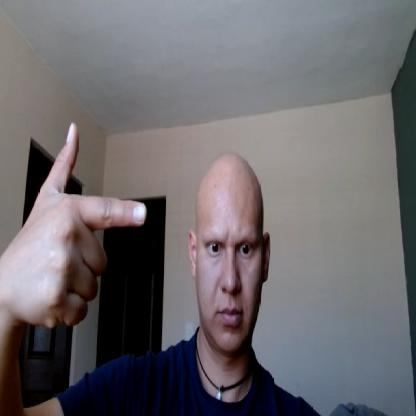G: (7, 120, 148, 327)
